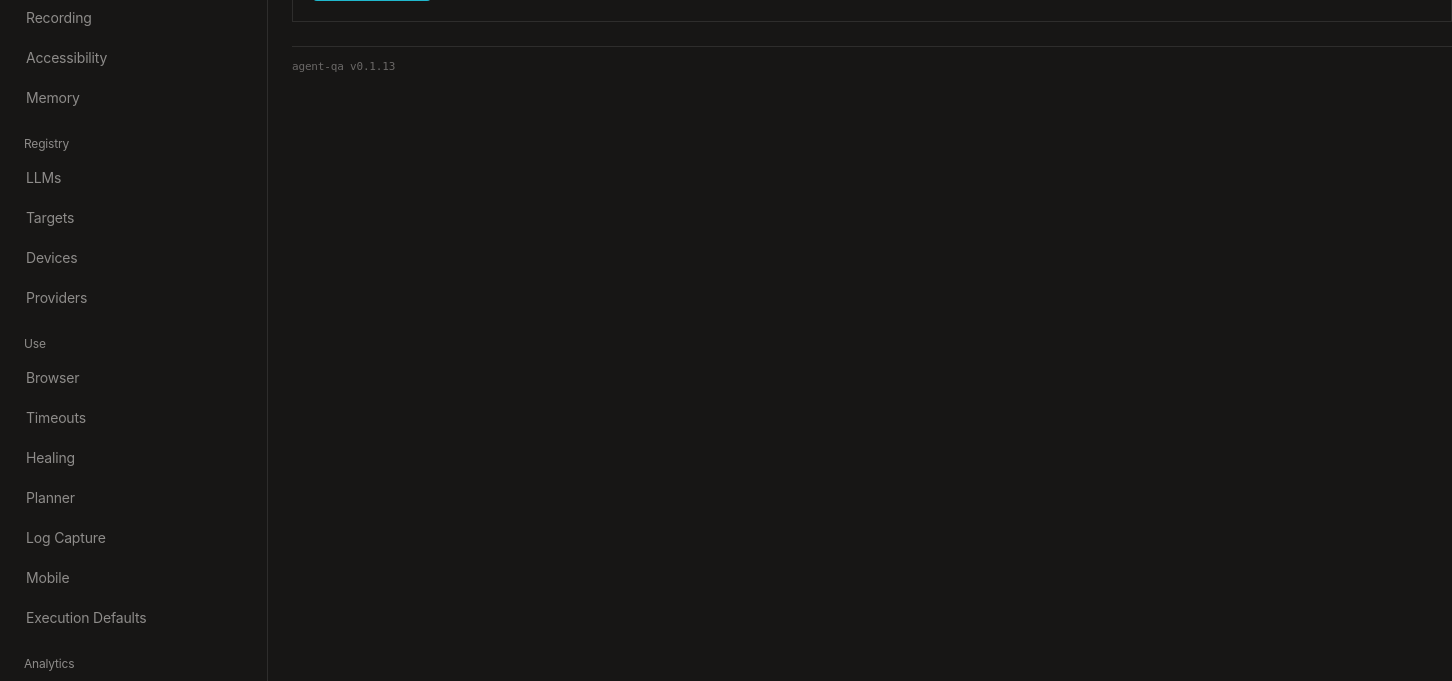
Scenario: ConfigPage schema-driven shell › keeps Logging and Log Capture as separate deep-linkable destinations
(page scrolled)
Expected: the text "use.logCapture" is not shown
Click the button "Log Capture" at x=132, y=538, box [12,520,251,556]
(page scrolled)
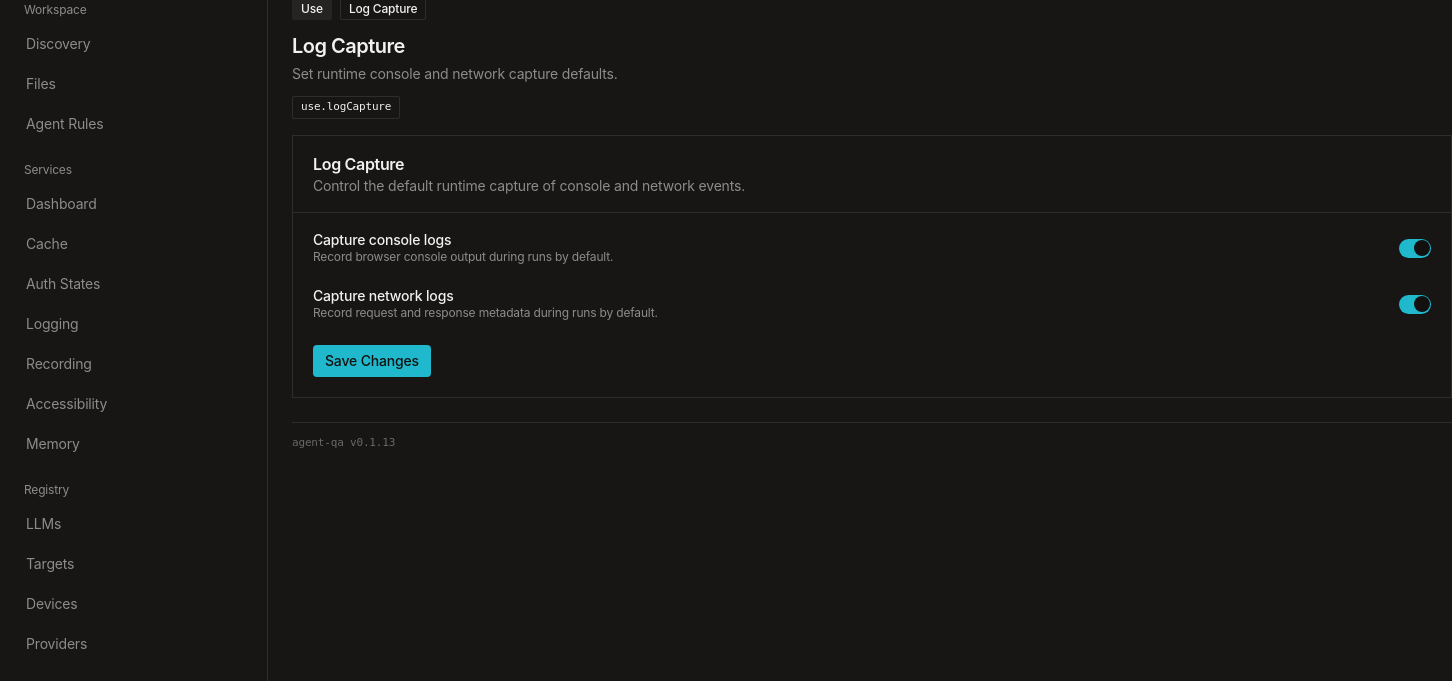
Result: the text "use.logCapture" is shown at [292,96,400,118]
